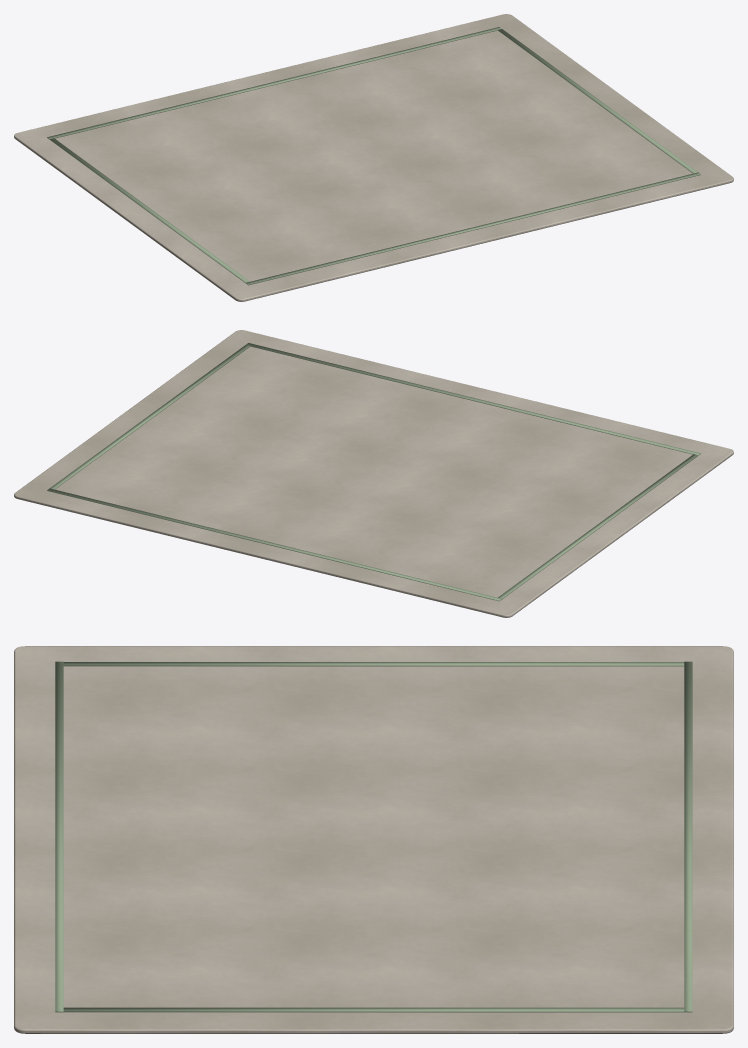
The model's file is guest_rug_small.gltf.
3 renders of one model, top to bottom at view 1: azimuth 30°, elevation 25°; view 2: azimuth 150°, elevation 25°; view 3: azimuth 270°, elevation 25°, orthographic. The views are drawn at different scales.
Visible parts, largest first — view 1: GuestRugSmall_Body, GuestRugSmall_LineS, GuestRugSmall_LineN, GuestRugSmall_LineE, GuestRugSmall_LineW; view 2: GuestRugSmall_Body, GuestRugSmall_LineN, GuestRugSmall_LineS, GuestRugSmall_LineE, GuestRugSmall_LineW; view 3: GuestRugSmall_Body, GuestRugSmall_LineE, GuestRugSmall_LineN, GuestRugSmall_LineS, GuestRugSmall_LineW.
Boxes of the visible parts, bbox=[...] form: GuestRugSmall_Body: bbox=[14, 14, 733, 301]; GuestRugSmall_LineS: bbox=[245, 172, 700, 285]; GuestRugSmall_LineN: bbox=[47, 27, 501, 139]; GuestRugSmall_LineE: bbox=[497, 29, 697, 173]; GuestRugSmall_LineW: bbox=[49, 138, 249, 282]; GuestRugSmall_Body: bbox=[14, 330, 733, 617]; GuestRugSmall_LineN: bbox=[47, 488, 502, 601]; GuestRugSmall_LineS: bbox=[246, 343, 700, 455]; GuestRugSmall_LineE: bbox=[50, 345, 250, 489]; GuestRugSmall_LineW: bbox=[498, 454, 698, 598]; GuestRugSmall_Body: bbox=[14, 646, 733, 1033]; GuestRugSmall_LineE: bbox=[63, 1007, 684, 1012]; GuestRugSmall_LineN: bbox=[684, 661, 692, 1012]; GuestRugSmall_LineS: bbox=[55, 661, 63, 1012]; GuestRugSmall_LineW: bbox=[63, 662, 684, 666].
Bounding box in the file's own units: 2.4 × 0.0171 × 1.9.
2 materials, 1 textured.
